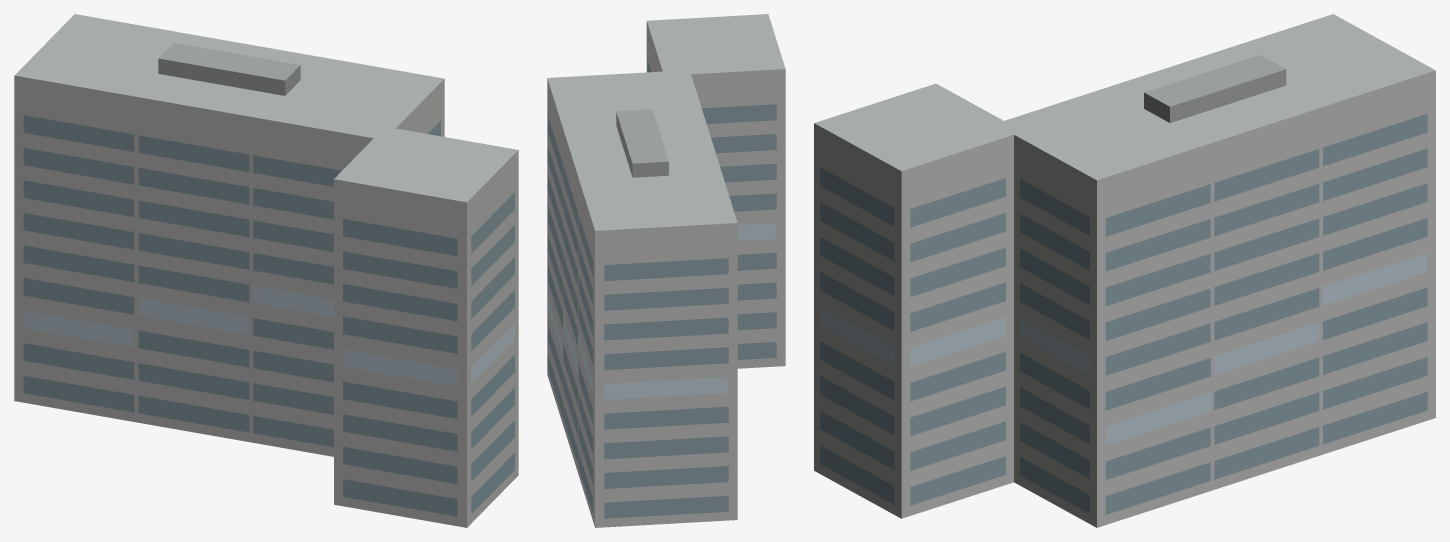
The model's file is fallback-dmc-raemian-e-pyeonhansesang-101.glb.
The picture shows the model from 3 angles, left to right: view 1: azimuth 30°, elevation 25°; view 2: azimuth 150°, elevation 25°; view 3: azimuth 270°, elevation 25°; orthographic projection. The views are drawn at different scales.
Visible parts, largest first — view 1: fallback-dmc-raemian-e-pyeonhansesang-101; view 2: fallback-dmc-raemian-e-pyeonhansesang-101; view 3: fallback-dmc-raemian-e-pyeonhansesang-101.
Boxes of the visible parts, x1,y1,x2,y2 form: fallback-dmc-raemian-e-pyeonhansesang-101: (14, 14, 518, 527); fallback-dmc-raemian-e-pyeonhansesang-101: (547, 14, 785, 527); fallback-dmc-raemian-e-pyeonhansesang-101: (814, 14, 1435, 527).
Bounding box in the file's own units: 30.39 × 31 × 47.99.
